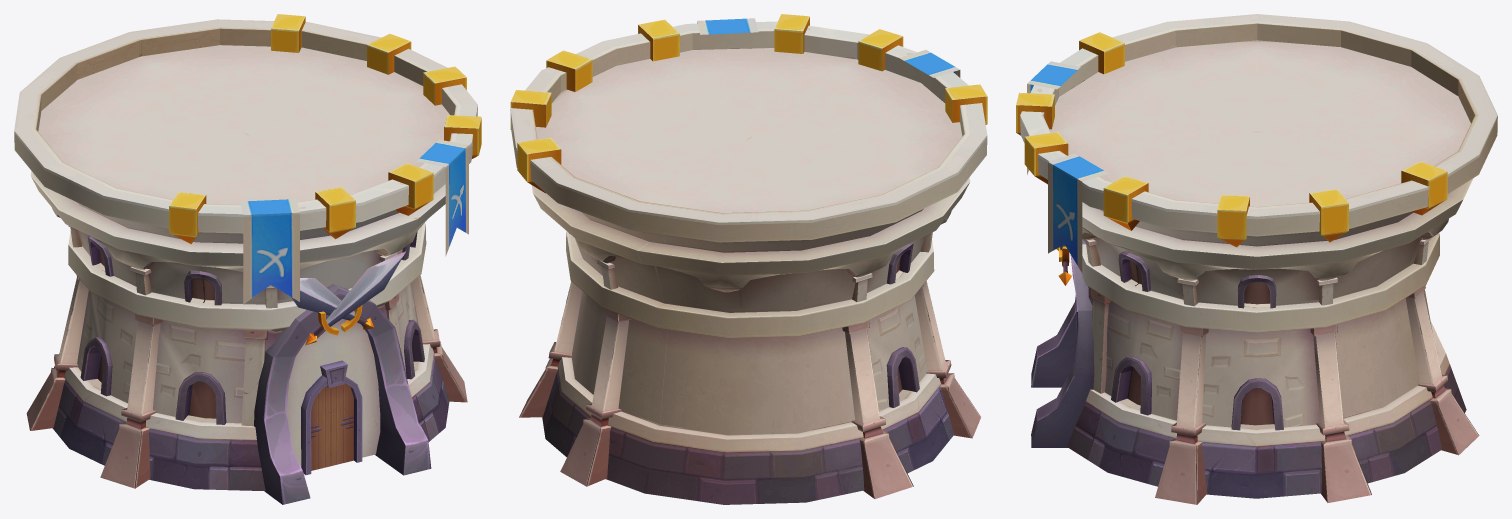
Rendered from ZhuCheng_JianZhu_03.fbx.
The picture shows the model from 3 angles, left to right: view 1: azimuth 30°, elevation 25°; view 2: azimuth 150°, elevation 25°; view 3: azimuth 270°, elevation 25°; orthographic projection. The views are drawn at different scales.
Visible parts, largest first — view 1: ZhuCheng_JianZhu_03; view 2: ZhuCheng_JianZhu_03; view 3: ZhuCheng_JianZhu_03.
Boxes of the visible parts, left/top/right/bottom form: ZhuCheng_JianZhu_03: left=14, top=14, right=481, bottom=504; ZhuCheng_JianZhu_03: left=510, top=14, right=987, bottom=504; ZhuCheng_JianZhu_03: left=1016, top=14, right=1497, bottom=504.
Size of the model in its own units: 11.99 by 8.34 by 12.03.
